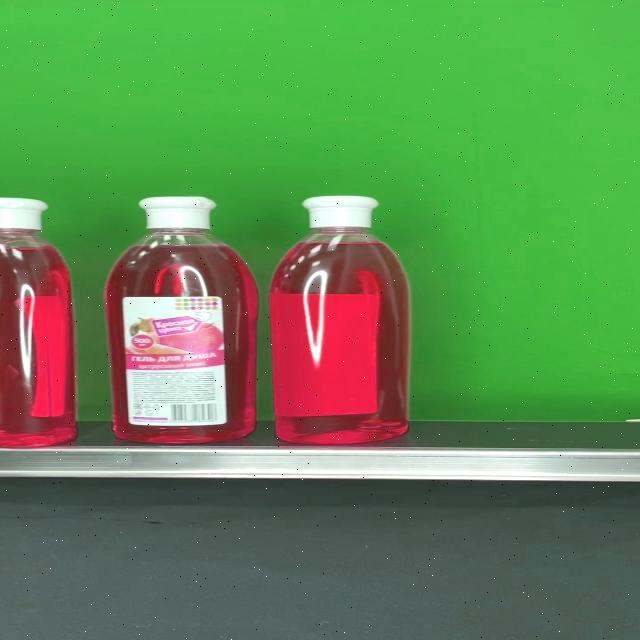Bottle: (104, 196, 255, 442), (271, 196, 408, 444)
Cap: (303, 196, 382, 230), (137, 197, 217, 230)
